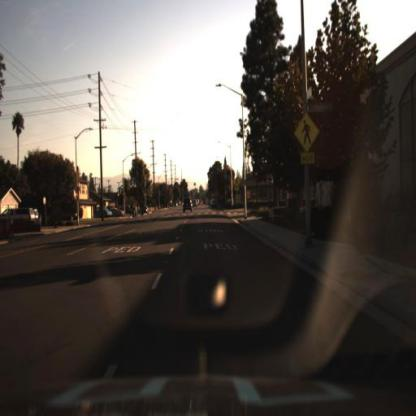car: (1, 198, 37, 227), (1, 204, 38, 224), (90, 204, 113, 222), (180, 195, 196, 219), (92, 206, 114, 218), (111, 205, 127, 220), (137, 204, 152, 220), (140, 202, 151, 218)
